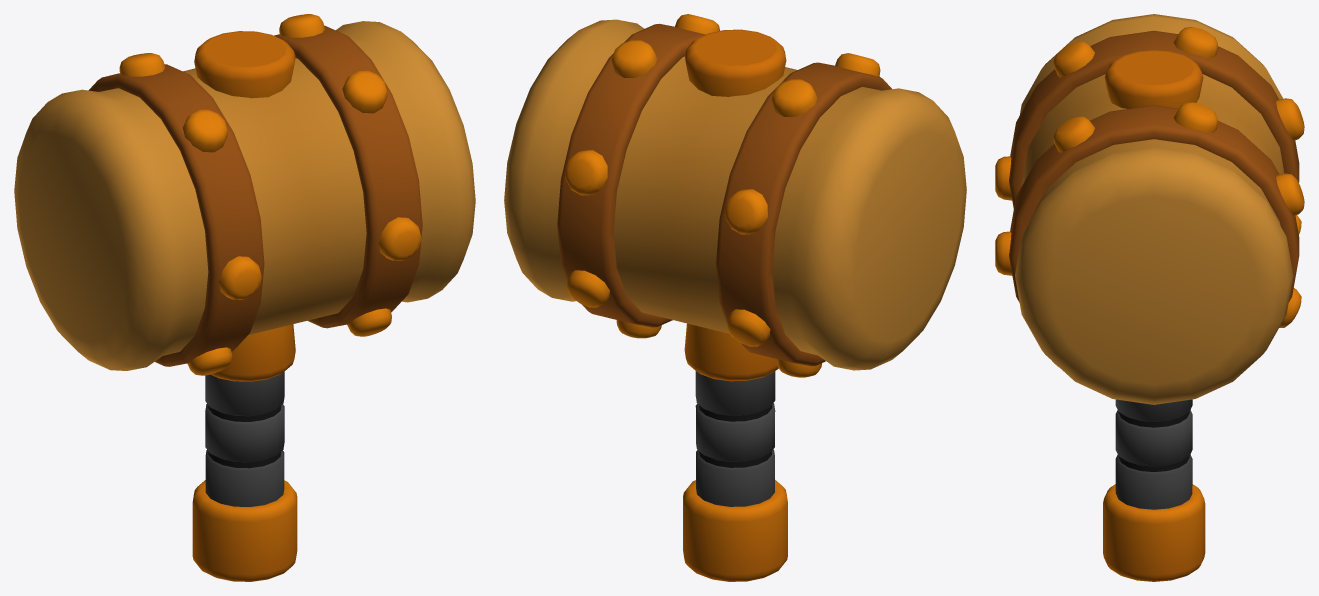
File: Hammer_V3_0.fbx
3 views of the same model, side by side, from view 1: azimuth 30°, elevation 25°; view 2: azimuth 150°, elevation 25°; view 3: azimuth 270°, elevation 25° (orthographic). The views are drawn at different scales.
Visible parts, largest first — view 1: Hammer_V3_0; view 2: Hammer_V3_0; view 3: Hammer_V3_0.
Part boxes in pixels (x1=…): Hammer_V3_0: x1=14, y1=14, x2=475, y2=581; Hammer_V3_0: x1=504, y1=14, x2=966, y2=581; Hammer_V3_0: x1=995, y1=14, x2=1304, y2=581.
Bounding box in the file's own units: 0.3458 × 0.4941 × 0.279.
